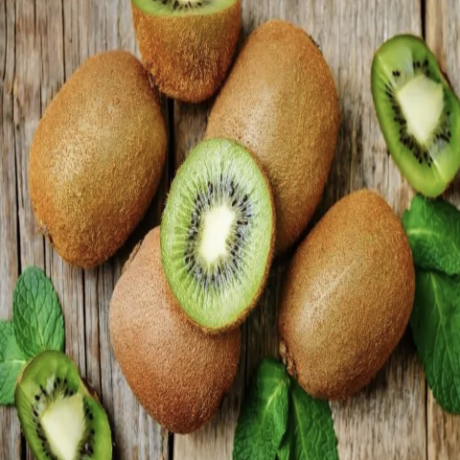kiwi: (192, 3, 343, 263), (19, 51, 186, 277), (95, 194, 248, 437), (278, 178, 429, 420)
